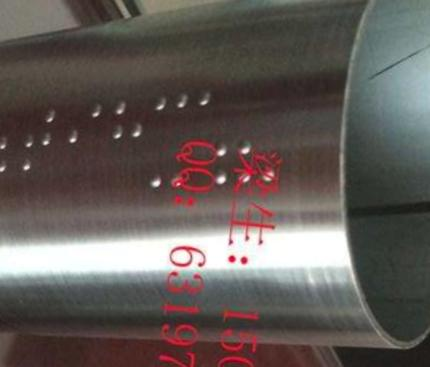Braille: (151, 93, 186, 158), (23, 111, 56, 173), (114, 96, 143, 165)
